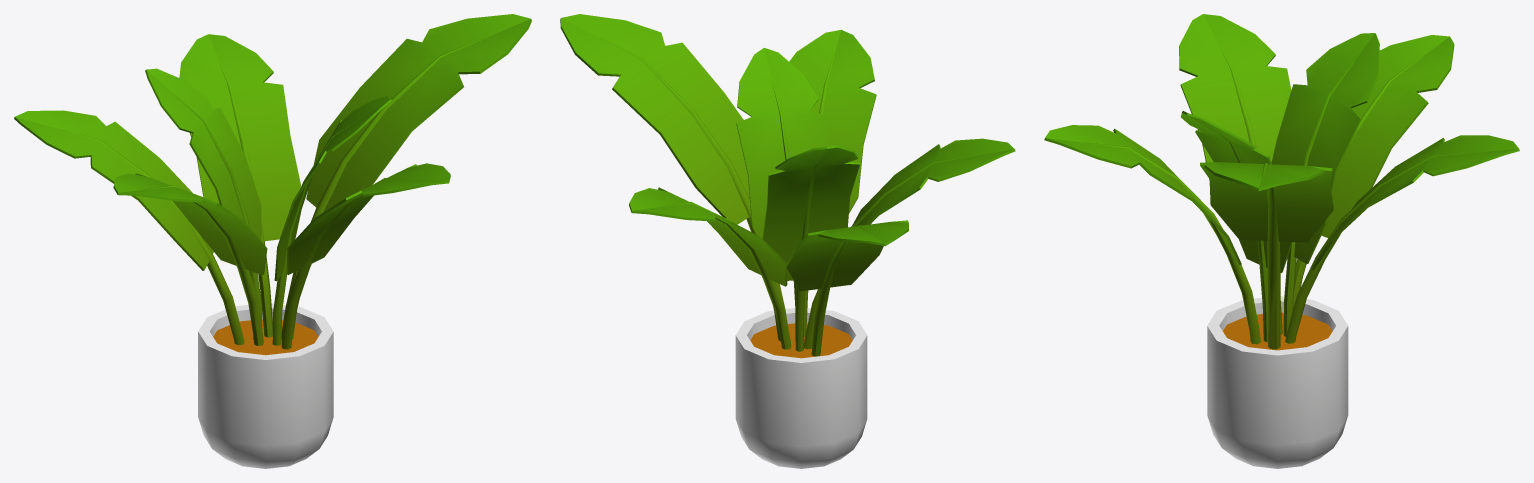
File: Indoor_Plant_01.fbx
3 views of the same model, side by side, from view 1: azimuth 30°, elevation 25°; view 2: azimuth 150°, elevation 25°; view 3: azimuth 270°, elevation 25° (orthographic). The views are drawn at different scales.
Parts seen in each view (by area): view 1: Indoor_Plant_01; view 2: Indoor_Plant_01; view 3: Indoor_Plant_01.
Part boxes in pixels (bbox=[...]): Indoor_Plant_01: bbox=[14, 14, 531, 468]; Indoor_Plant_01: bbox=[560, 14, 1015, 468]; Indoor_Plant_01: bbox=[1044, 14, 1519, 468].
Bounding box in the file's own units: 167 × 138 × 150.
